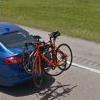Bicycle: (14, 31, 78, 94)
